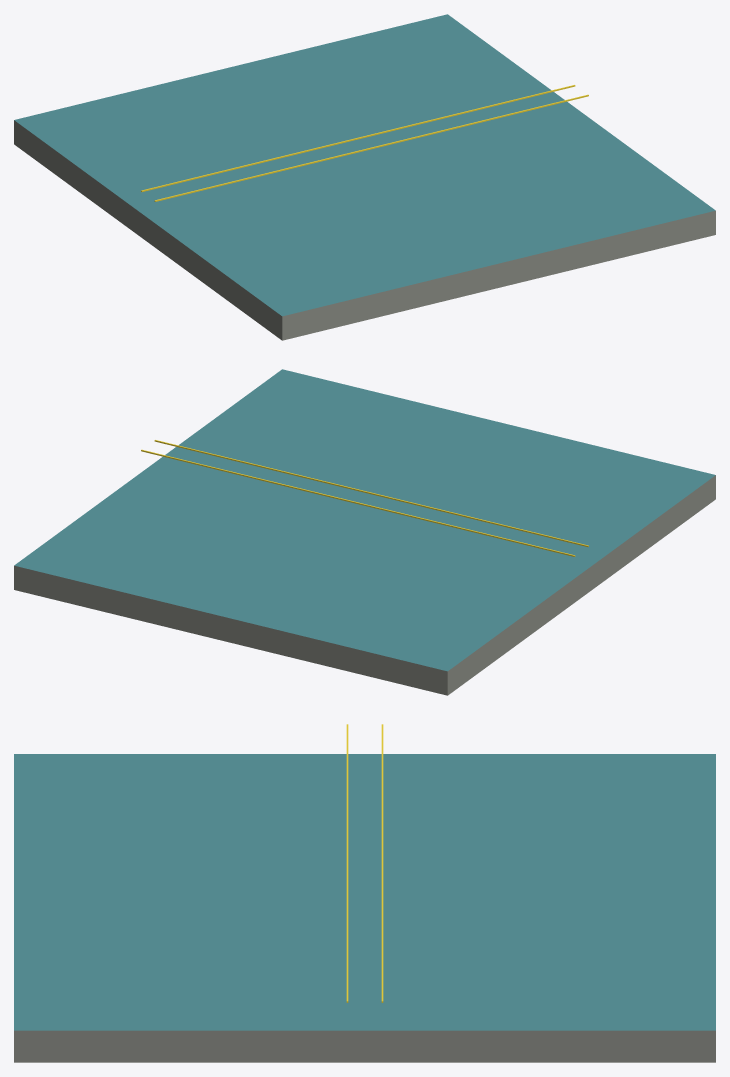
File: site_basin_far.fbx
3 views of the same model, one above another, from view 1: azimuth 30°, elevation 25°; view 2: azimuth 150°, elevation 25°; view 3: azimuth 270°, elevation 25° (orthographic). The views are drawn at different scales.
Visible parts, largest first — view 1: a1058/0/site_basin_far; view 2: a1058/0/site_basin_far; view 3: a1058/0/site_basin_far.
Part boxes in pixels (box(x1,y1,x2,y2)): a1058/0/site_basin_far: box(14, 14, 715, 340); a1058/0/site_basin_far: box(14, 369, 715, 695); a1058/0/site_basin_far: box(14, 724, 715, 1062).
Bounding box in the file's own units: 22.4 × 2.31 × 24.
